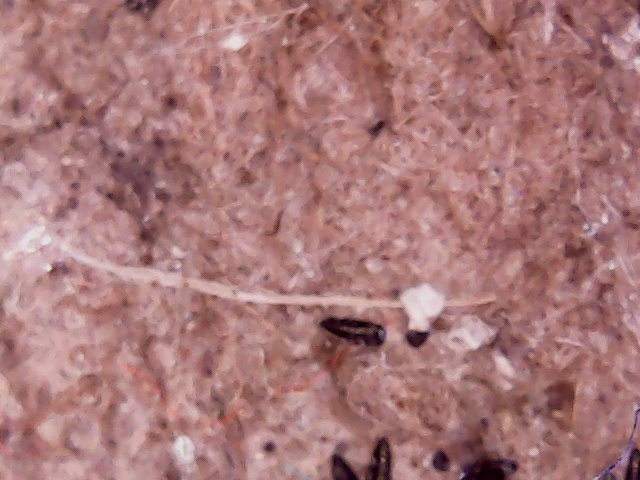full: (316, 306, 390, 354), (441, 446, 526, 480)
